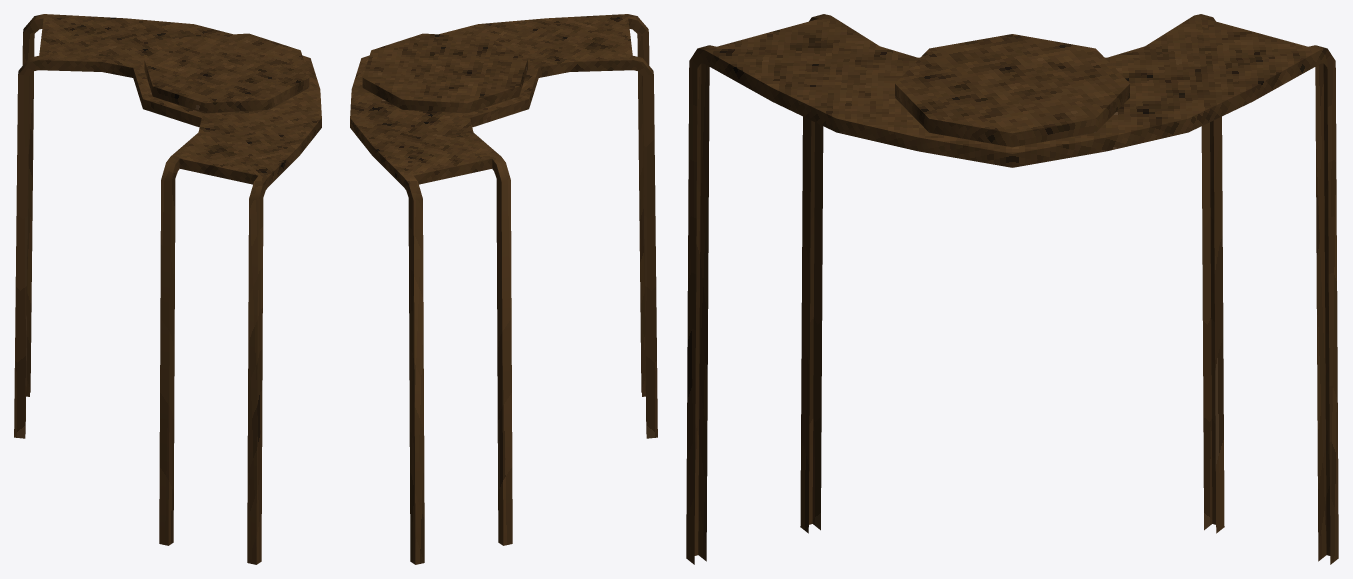
The model's file is Stool.glb.
3 views of the same model, side by side, from view 1: azimuth 30°, elevation 25°; view 2: azimuth 150°, elevation 25°; view 3: azimuth 270°, elevation 25° (orthographic). The views are drawn at different scales.
Parts seen in each view (by area): view 1: Stool; view 2: Stool; view 3: Stool.
Boxes of the visible parts, x1,y1,x2,y2 form: Stool: (14, 14, 321, 564); Stool: (350, 14, 657, 564); Stool: (686, 14, 1338, 564).
Size of the model in its own units: 3.29 by 5.47 by 6.04.
1 material, 1 textured.
